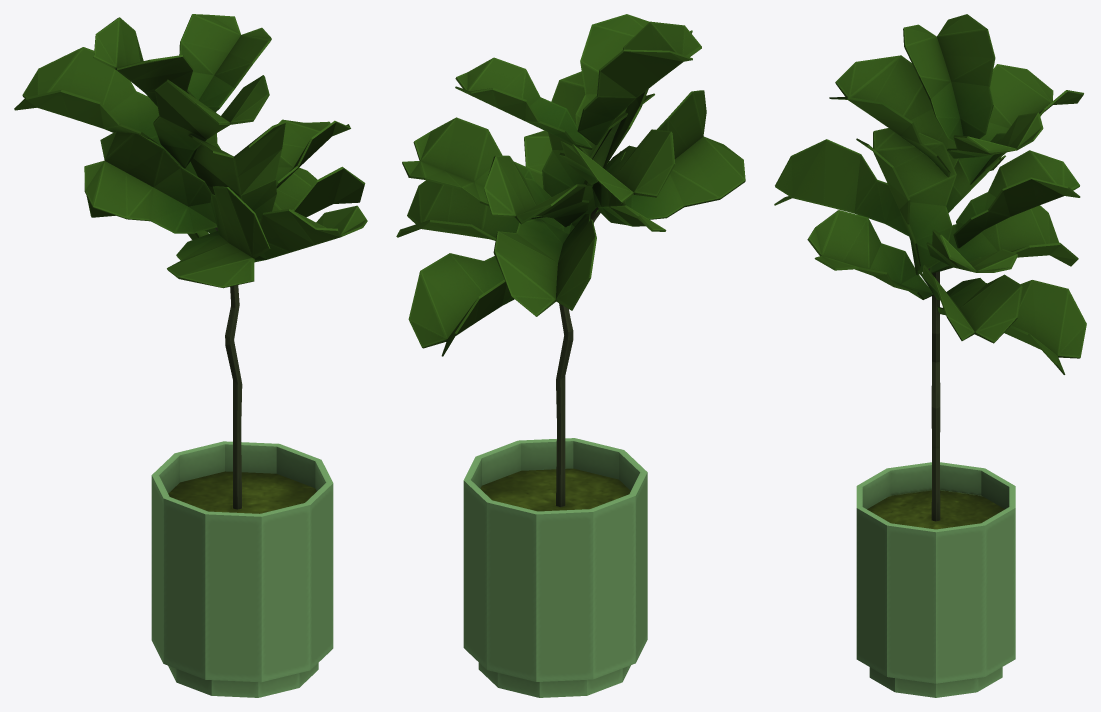
File: whole_plant.glb
The picture shows the model from 3 angles, left to right: view 1: azimuth 30°, elevation 25°; view 2: azimuth 150°, elevation 25°; view 3: azimuth 270°, elevation 25°; orthographic projection. The views are drawn at different scales.
Visible parts, largest first — view 1: FiddleleafFigPottedPlant_mesh; view 2: FiddleleafFigPottedPlant_mesh; view 3: FiddleleafFigPottedPlant_mesh.
Boxes of the visible parts, x1,y1,x2,y2 form: FiddleleafFigPottedPlant_mesh: [14, 14, 367, 697]; FiddleleafFigPottedPlant_mesh: [396, 14, 745, 697]; FiddleleafFigPottedPlant_mesh: [774, 14, 1086, 697].
Size of the model in its own units: 0.9617 by 2 by 0.95.
Materials: 1 (1 with a texture image).
